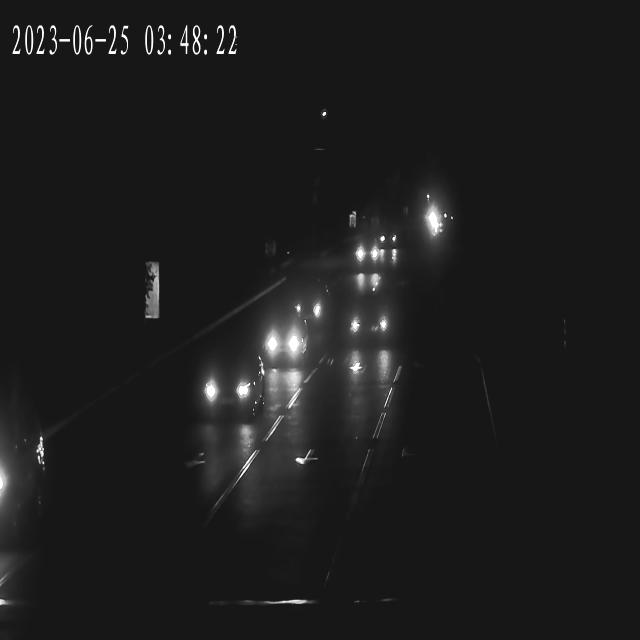Car: (1, 426, 52, 530), (194, 350, 264, 420), (262, 316, 311, 368), (347, 303, 393, 345), (288, 285, 328, 323), (351, 238, 382, 266), (426, 204, 442, 234), (377, 229, 399, 250)
